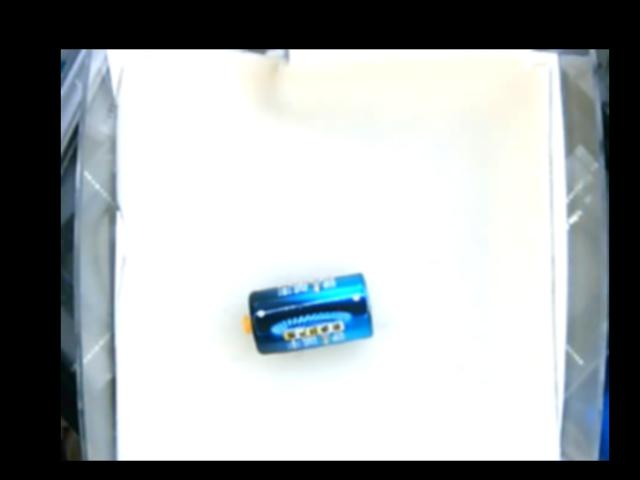Battery: (239, 271, 376, 356)
